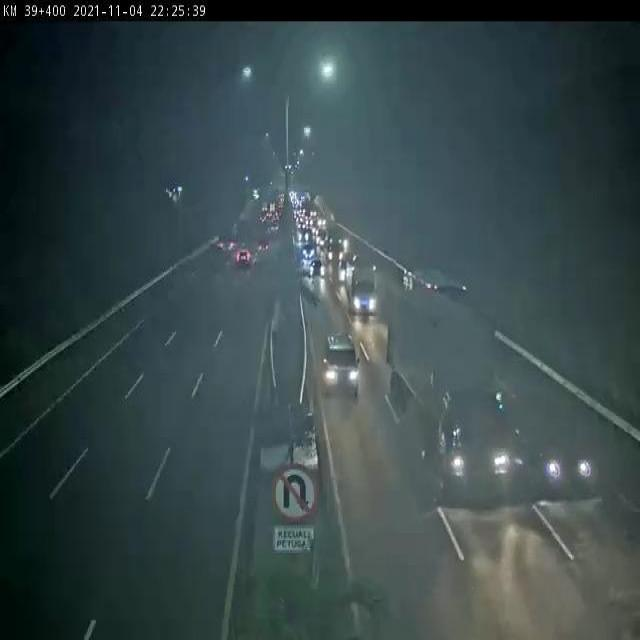car: (512, 384, 603, 503), (321, 335, 362, 396), (233, 248, 253, 275), (309, 261, 327, 280)
truck-m-: (346, 260, 378, 313)
truck-xl-: (387, 290, 511, 506)
